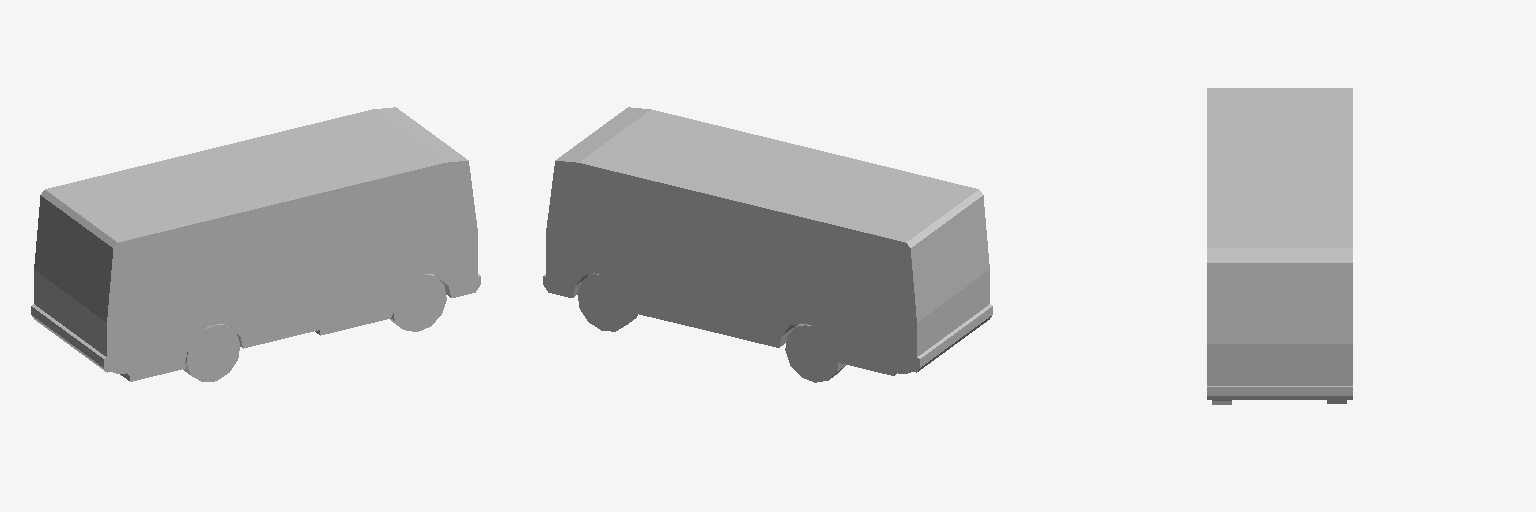
File: bus.obj
3 views of the same model, side by side, from view 1: azimuth 30°, elevation 25°; view 2: azimuth 150°, elevation 25°; view 3: azimuth 270°, elevation 25° (orthographic).
Visible parts, largest first — view 1: Group_001, Group_005, Group_004; view 2: Group_001, Group_002, Group_003; view 3: Group_001.
Part boxes in pixels (left/top/right/bottom): Group_001: left=31, top=107, right=480, bottom=381; Group_005: left=183, top=324, right=239, bottom=381; Group_004: left=390, top=273, right=446, bottom=331; Group_001: left=543, top=107, right=992, bottom=375; Group_002: left=577, top=273, right=637, bottom=331; Group_003: left=785, top=323, right=845, bottom=382; Group_001: left=1207, top=88, right=1352, bottom=399.
Size of the model in its own units: 332 by 139 by 111.